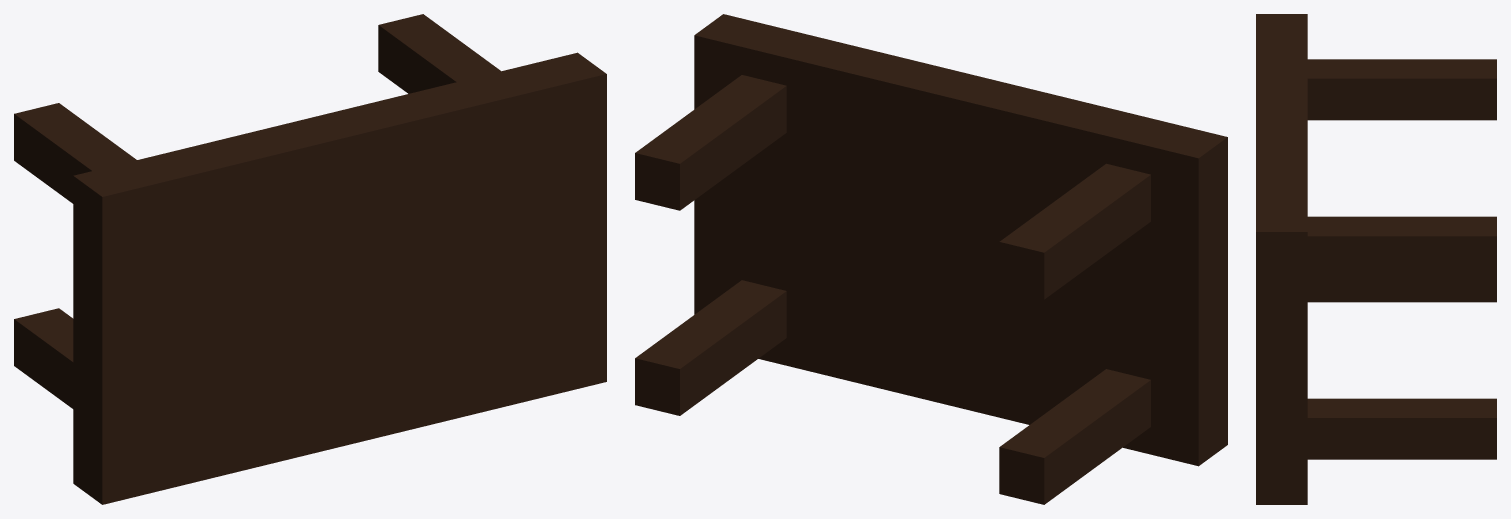
Rendered from SM_BreeTable.obj.
3 renders of one model, left to right at view 1: azimuth 30°, elevation 25°; view 2: azimuth 150°, elevation 25°; view 3: azimuth 270°, elevation 25°, orthographic. The views are drawn at different scales.
Visible parts, largest first — view 1: SM_BreeTable; view 2: SM_BreeTable; view 3: SM_BreeTable.
Boxes of the visible parts, x1,y1,x2,y2 form: SM_BreeTable: (14,14,606,504); SM_BreeTable: (635,14,1227,504); SM_BreeTable: (1256,14,1496,504).
Bounding box in the file's own units: 180 × 105 × 84.
